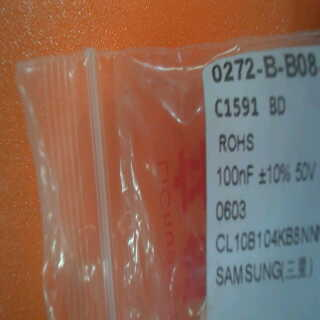100nF: (212, 163, 256, 188)
